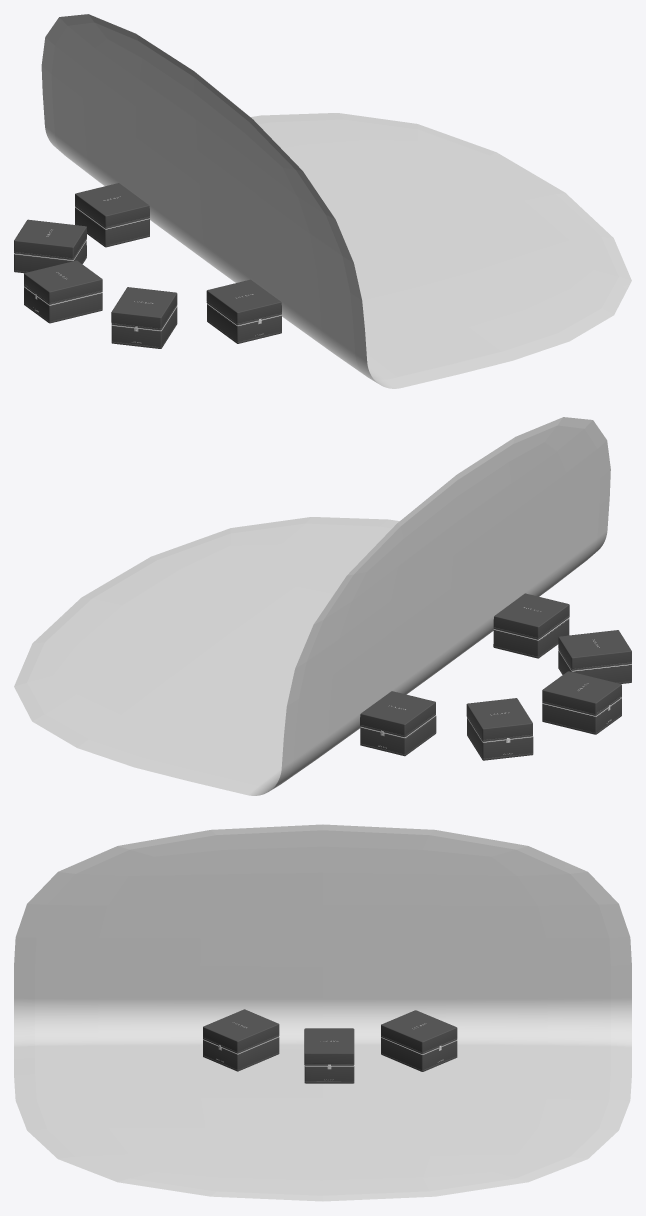
The model's file is luxbox.glb.
The picture shows the model from 3 angles, top to bottom: view 1: azimuth 30°, elevation 25°; view 2: azimuth 150°, elevation 25°; view 3: azimuth 270°, elevation 25°; orthographic projection. The views are drawn at different scales.
Parts seen in each view (by area): view 1: Wall_Frosted_Glass, MASTER_Lid.002, MASTER_Lid.003, MASTER_Lid.004, MASTER_Lid.006, MASTER_Lid.007, MASTER_Base.002, MASTER_Base.003, MASTER_Base.004, MASTER_Base.007, MASTER_Base.006; view 2: Wall_Frosted_Glass, MASTER_Lid.002, MASTER_Lid.003, MASTER_Lid.007, MASTER_Lid.004, MASTER_Lid.006, MASTER_Base.002, MASTER_Base.004, MASTER_Base.003, MASTER_Base.006, MASTER_Base.007; view 3: Wall_Frosted_Glass, MASTER_Lid.005, MASTER_Lid.008, MASTER_Lid.001, MASTER_Base.005, MASTER_Base.008, MASTER_Base.001.
Boxes of the visible parts, x1=… form: Wall_Frosted_Glass: x1=41, y1=14, x2=631, y2=388; MASTER_Lid.002: x1=24, y1=260, x2=102, y2=304; MASTER_Lid.003: x1=206, y1=279, x2=281, y2=325; MASTER_Lid.004: x1=75, y1=183, x2=149, y2=228; MASTER_Lid.006: x1=14, y1=219, x2=86, y2=259; MASTER_Lid.007: x1=111, y1=287, x2=177, y2=330; MASTER_Base.002: x1=24, y1=286, x2=102, y2=323; MASTER_Base.003: x1=207, y1=303, x2=281, y2=343; MASTER_Base.004: x1=75, y1=207, x2=149, y2=247; MASTER_Base.007: x1=111, y1=306, x2=177, y2=348; MASTER_Base.006: x1=14, y1=240, x2=86, y2=273; Wall_Frosted_Glass: x1=14, y1=417, x2=610, y2=795; MASTER_Lid.002: x1=542, y1=671, x2=621, y2=715; MASTER_Lid.003: x1=493, y1=593, x2=569, y2=639; MASTER_Lid.007: x1=558, y1=630, x2=631, y2=670; MASTER_Lid.004: x1=360, y1=691, x2=435, y2=737; MASTER_Lid.006: x1=466, y1=698, x2=532, y2=741; MASTER_Base.002: x1=542, y1=697, x2=621, y2=734; MASTER_Base.004: x1=360, y1=715, x2=436, y2=756; MASTER_Base.003: x1=493, y1=618, x2=569, y2=658; MASTER_Base.006: x1=467, y1=717, x2=533, y2=760; MASTER_Base.007: x1=558, y1=650, x2=631, y2=683; Wall_Frosted_Glass: x1=14, y1=824, x2=631, y2=1201; MASTER_Lid.005: x1=203, y1=1009, x2=279, y2=1053; MASTER_Lid.008: x1=381, y1=1010, x2=457, y2=1054; MASTER_Lid.001: x1=304, y1=1028, x2=354, y2=1065; MASTER_Base.005: x1=203, y1=1036, x2=279, y2=1071; MASTER_Base.008: x1=381, y1=1037, x2=457, y2=1071; MASTER_Base.001: x1=304, y1=1065, x2=354, y2=1083.
Bounding box in the file's own units: 25.19 × 9.79 × 26.73.
Materials: 7 (3 with a texture image).
